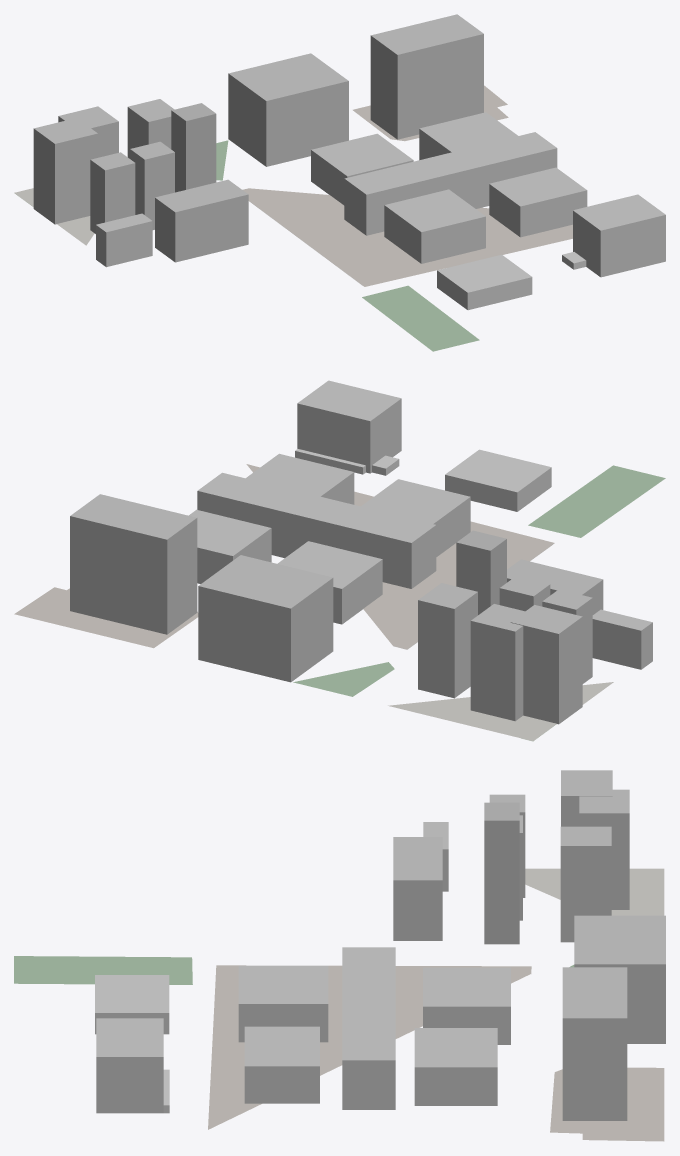
File: 119_86_mid.glb
The picture shows the model from 3 angles, top to bottom: view 1: azimuth 30°, elevation 25°; view 2: azimuth 150°, elevation 25°; view 3: azimuth 270°, elevation 25°; orthographic projection. The views are drawn at different scales.
Size of the model in its own units: 505 by 105 by 501.
